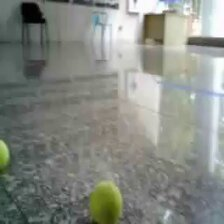tennis: (88, 180, 124, 224), (1, 138, 13, 170)
